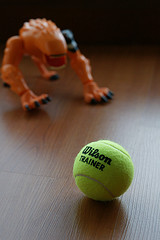tennis ball: (72, 138, 135, 202)
